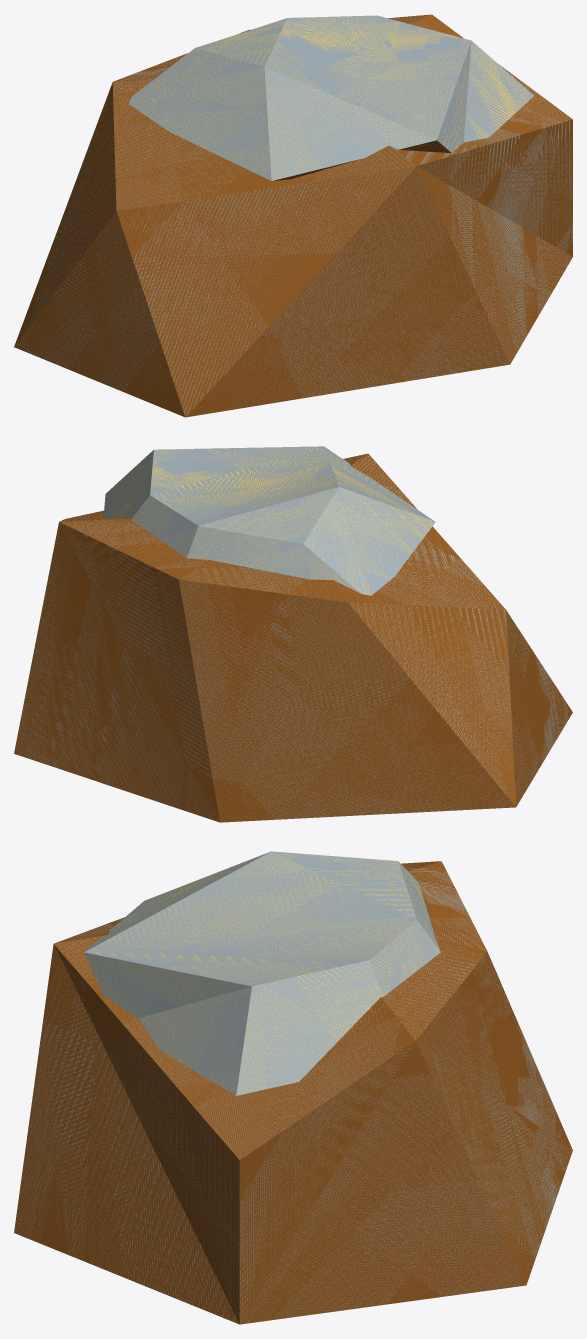
The model's file is Rock_Medium_Dirt_Sand_01.fbx.
3 renders of one model, top to bottom at view 1: azimuth 30°, elevation 25°; view 2: azimuth 150°, elevation 25°; view 3: azimuth 270°, elevation 25°, orthographic. The views are drawn at different scales.
Visible parts, largest first — view 1: Model; view 2: Model; view 3: Model.
Boxes of the visible parts, x1,y1,x2,y2 form: Model: [14, 14, 572, 417]; Model: [14, 446, 572, 822]; Model: [14, 851, 572, 1324].
Size of the model in its own units: 376 by 218 by 298.
